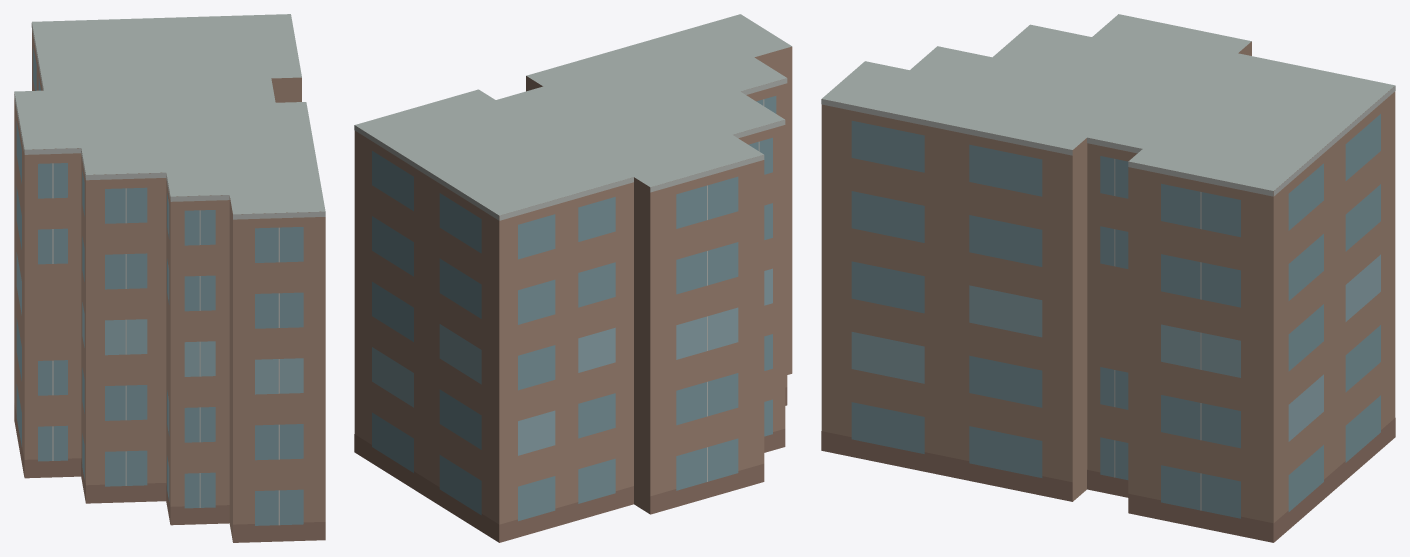
Rendered from survey-upis-32608792.glb.
The picture shows the model from 3 angles, left to right: view 1: azimuth 30°, elevation 25°; view 2: azimuth 150°, elevation 25°; view 3: azimuth 270°, elevation 25°; orthographic projection. The views are drawn at different scales.
Visible parts, largest first — view 1: survey-upis-32608792.tmp; view 2: survey-upis-32608792.tmp; view 3: survey-upis-32608792.tmp.
Boxes of the visible parts, x1,y1,x2,y2 form: survey-upis-32608792.tmp: [14, 14, 325, 542]; survey-upis-32608792.tmp: [354, 14, 792, 542]; survey-upis-32608792.tmp: [821, 14, 1395, 542].
Size of the model in its own units: 16.52 by 15.3 by 22.63.
